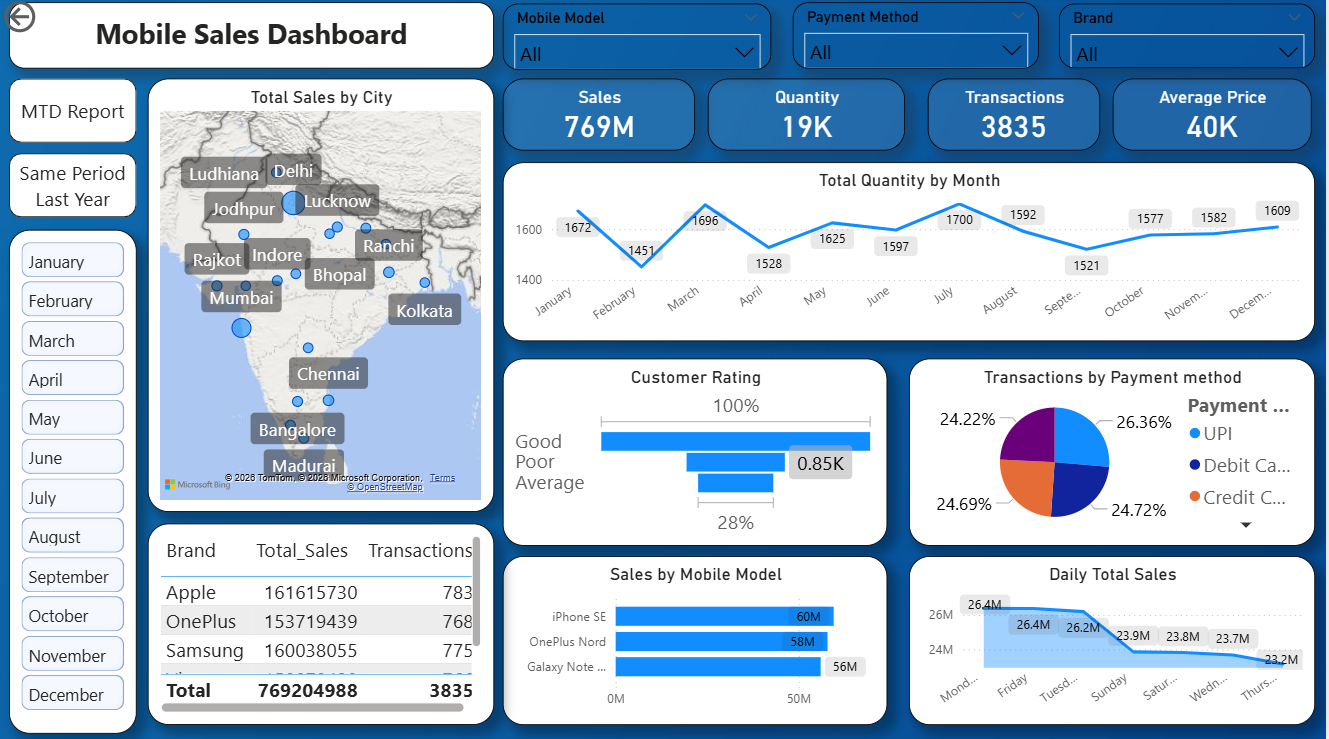

This screenshot's page, from the dashboard's own definition file:
{"tool":"powerbi","page":{"name":"Dashboard","canvas":[1280,720],"ordinal":0},"visuals":[{"type":"advancedSlicerVisual","fields":{"Values":["Custom_Data.Date.Variation.Date Hierarchy.Month"]},"box":[9.7,225.6,123.1,486.2],"z":0},{"type":"card","title":" Sales","fields":{"Values":["Sales_Data.Total_Sales"]},"box":[486.2,79.6,185.8,70],"z":1000},{"type":"card","title":"Quantity","fields":{"Values":["Sales_Data.Total_Quantity"]},"box":[684.1,79.6,190.6,70],"z":2000},{"type":"card","title":"Transactions","fields":{"Values":["Sales_Data.Transactions"]},"box":[896.4,79.6,166.5,70],"z":3000},{"type":"card","title":"Average Price","fields":{"Values":["Sales_Data.Average_Price"]},"box":[1074.9,79.6,191.8,70],"z":4000},{"type":"slicer","fields":{"Values":["Sales_Data.Mobile Model"]},"box":[486.2,7.2,259.4,63.9],"z":5000},{"type":"slicer","fields":{"Values":["Sales_Data.Payment Method"]},"box":[766.1,6,237.7,63.9],"z":6000},{"type":"slicer","fields":{"Values":["Sales_Data.Brand"]},"box":[1023.1,7.2,247.3,62.7],"z":7000},{"type":"textbox","box":[9.7,6,468.1,63.9],"z":8000},{"type":"map","title":"Total Sales by City","fields":{"Category":["Sales_Data.City"],"Size":["Sales_Data.Total_Sales"]},"box":[143.6,79.6,334.2,418.6],"z":9000},{"type":"lineChart","title":"Total Quantity by Month","fields":{"Category":["Custom_Data.Date.Variation.Date Hierarchy.Month"],"Y":["Sales_Data.Total_Quantity"]},"box":[486.2,160.5,784.2,172.5],"z":10000},{"type":"funnel","title":" Customer  Rating","fields":{"Y":["CountNonNull(Sales_Data.Customer Age)"],"Category":["Sales_Data.Rating Status"]},"box":[486.2,349.9,371.6,181],"z":11000},{"type":"pieChart","title":"Transactions by Payment method","fields":{"Y":["Sales_Data.Transactions"],"Category":["Sales_Data.Payment Method"]},"box":[878.3,349.9,392.1,181],"z":12000},{"type":"clusteredBarChart","title":"Sales by Mobile Model","fields":{"Y":["Sales_Data.Total_Sales"],"Category":["Sales_Data.Mobile Model"]},"box":[486.2,540.5,371.6,162.9],"z":13000},{"type":"areaChart","title":"Daily Total Sales","fields":{"Y":["Sales_Data.Total_Sales"],"Category":["Custom_Data.Day Name"]},"box":[878.3,540.5,392.1,162.9],"z":14000},{"type":"tableEx","fields":{"Values":["Sales_Data.Brand","Sales_Data.Total_Sales","Sales_Data.Transactions"]},"box":[143.6,509.1,334.2,194.2],"z":15000},{"type":"actionButton","box":[0,0,100,40],"z":16000},{"type":"pageNavigator","box":[9.7,79.6,123.1,135.1],"z":17000}]}

Visuals, with their boxes in screenshot pixels (x1, y1, x2, y2), scaled from the page's 1280x720 canvas onto the 1329x739 screenshot:
advancedSlicerVisual - Custom_Data.Date.Variation.Date Hierarchy.Month: 10 232 138 731
" Sales" card: 505 82 698 154
"Quantity" card: 710 82 908 154
"Transactions" card: 931 82 1104 154
"Average Price" card: 1116 82 1315 154
slicer - Sales_Data.Mobile Model: 505 7 774 73
slicer - Sales_Data.Payment Method: 795 6 1042 72
slicer - Sales_Data.Brand: 1062 7 1319 72
textbox: 10 6 496 72
"Total Sales by City" map: 149 82 496 511
"Total Quantity by Month" lineChart: 505 165 1319 342
" Customer  Rating" funnel: 505 359 891 545
"Transactions by Payment method" pieChart: 912 359 1319 545
"Sales by Mobile Model" clusteredBarChart: 505 555 891 722
"Daily Total Sales" areaChart: 912 555 1319 722
tableEx - Sales_Data.Brand x Sales_Data.Total_Sales: 149 523 496 722
actionButton: 0 0 104 41
pageNavigator: 10 82 138 220
